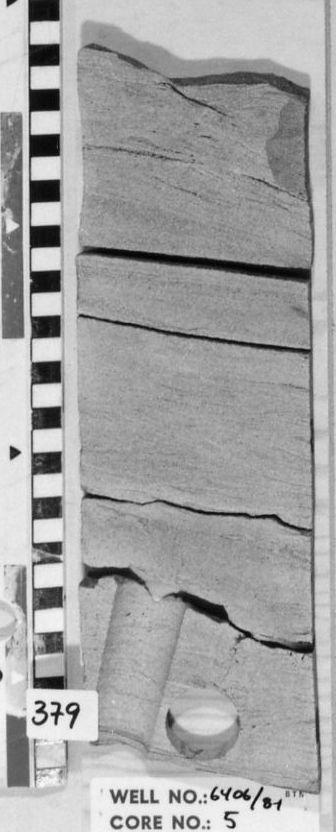hplug: (163, 685, 246, 764)
vplug: (86, 584, 187, 741)
